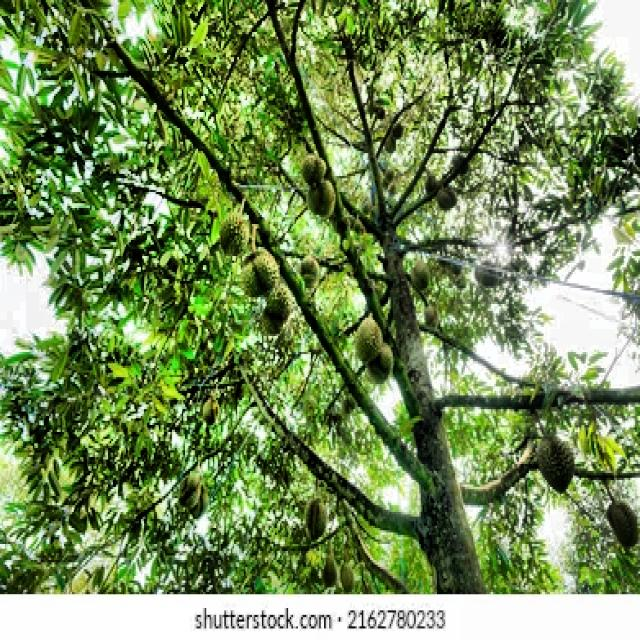arvore: (343, 125, 505, 608)
